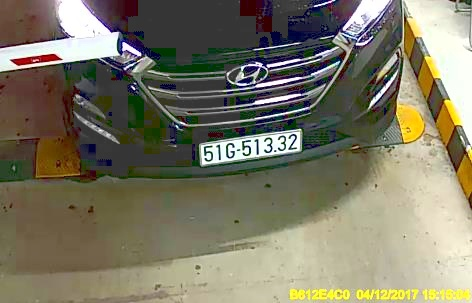plate: (197, 132, 301, 163)
